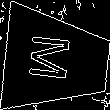M_E: (31, 35, 82, 86)
